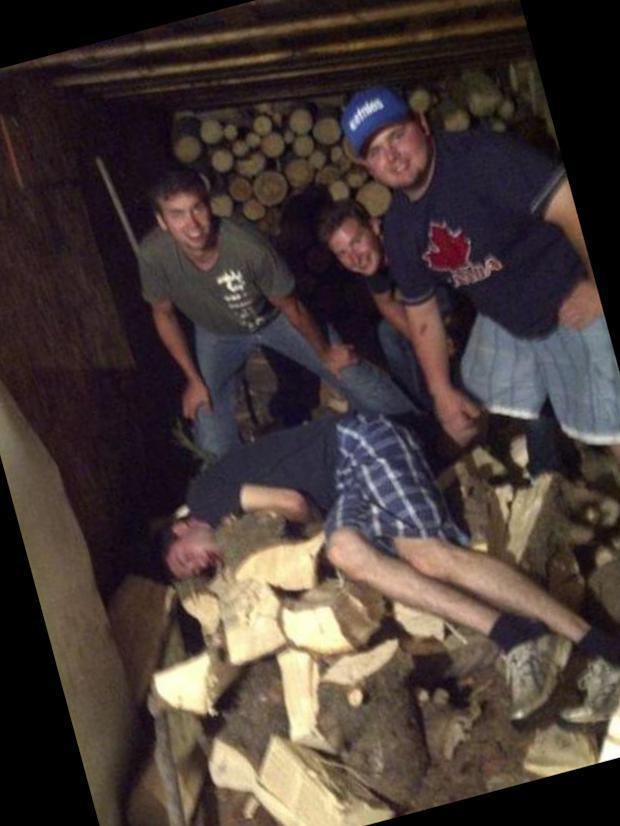Drunk: (377, 121, 432, 185), (159, 524, 215, 580), (334, 224, 384, 277), (162, 200, 209, 249)
